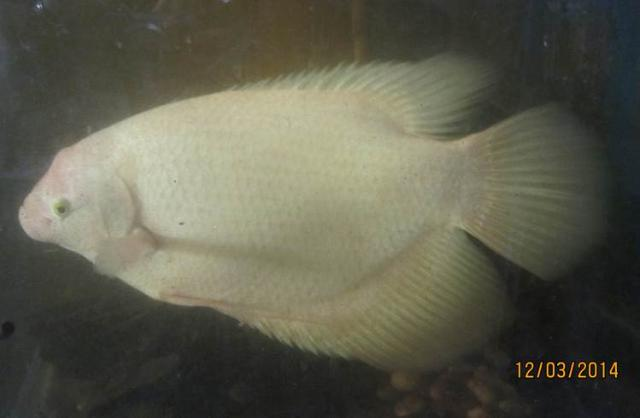Mulut: (1, 174, 67, 260)
Sirip Anal: (225, 219, 522, 385)
Sirip Dada: (81, 216, 171, 299)
Sirip Ekor: (448, 90, 628, 304)
Sirip Punggung: (215, 37, 519, 149)
